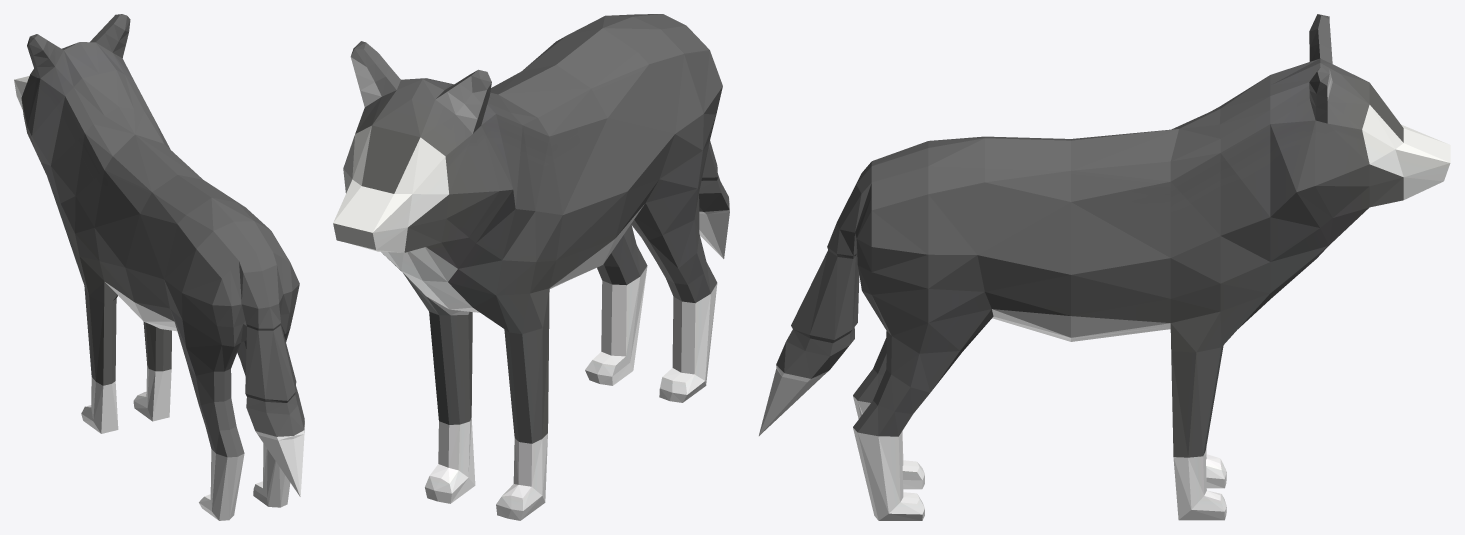
Rendered from grey-wolf.fbx.
3 renders of one model, left to right at view 1: azimuth 30°, elevation 25°; view 2: azimuth 150°, elevation 25°; view 3: azimuth 270°, elevation 25°, orthographic. The views are drawn at different scales.
Parts seen in each view (by area): view 1: Wolf; view 2: Wolf; view 3: Wolf.
Boxes of the visible parts, <box> form: Wolf: <box>14,14,304,520</box>; Wolf: <box>333,14,729,520</box>; Wolf: <box>759,14,1450,520</box>.
Size of the model in its own units: 67.32 by 203 by 278.
